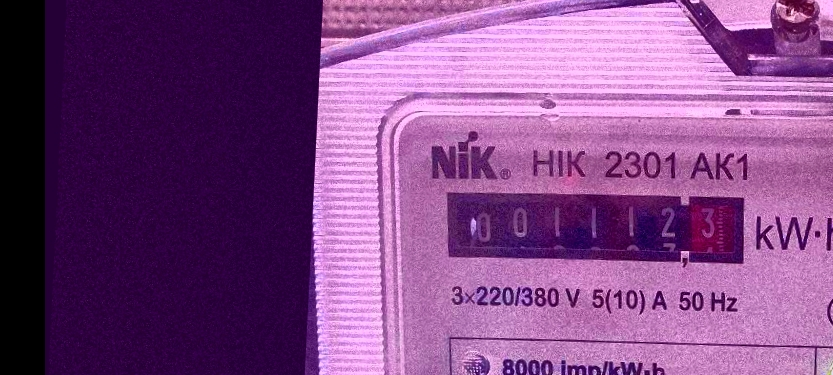0: (508, 202, 532, 241), (472, 207, 496, 243)
1: (547, 201, 567, 240), (585, 202, 601, 241), (623, 202, 639, 239)
2: (656, 203, 680, 240)
3: (697, 204, 717, 240)
screen: (437, 179, 754, 275)
